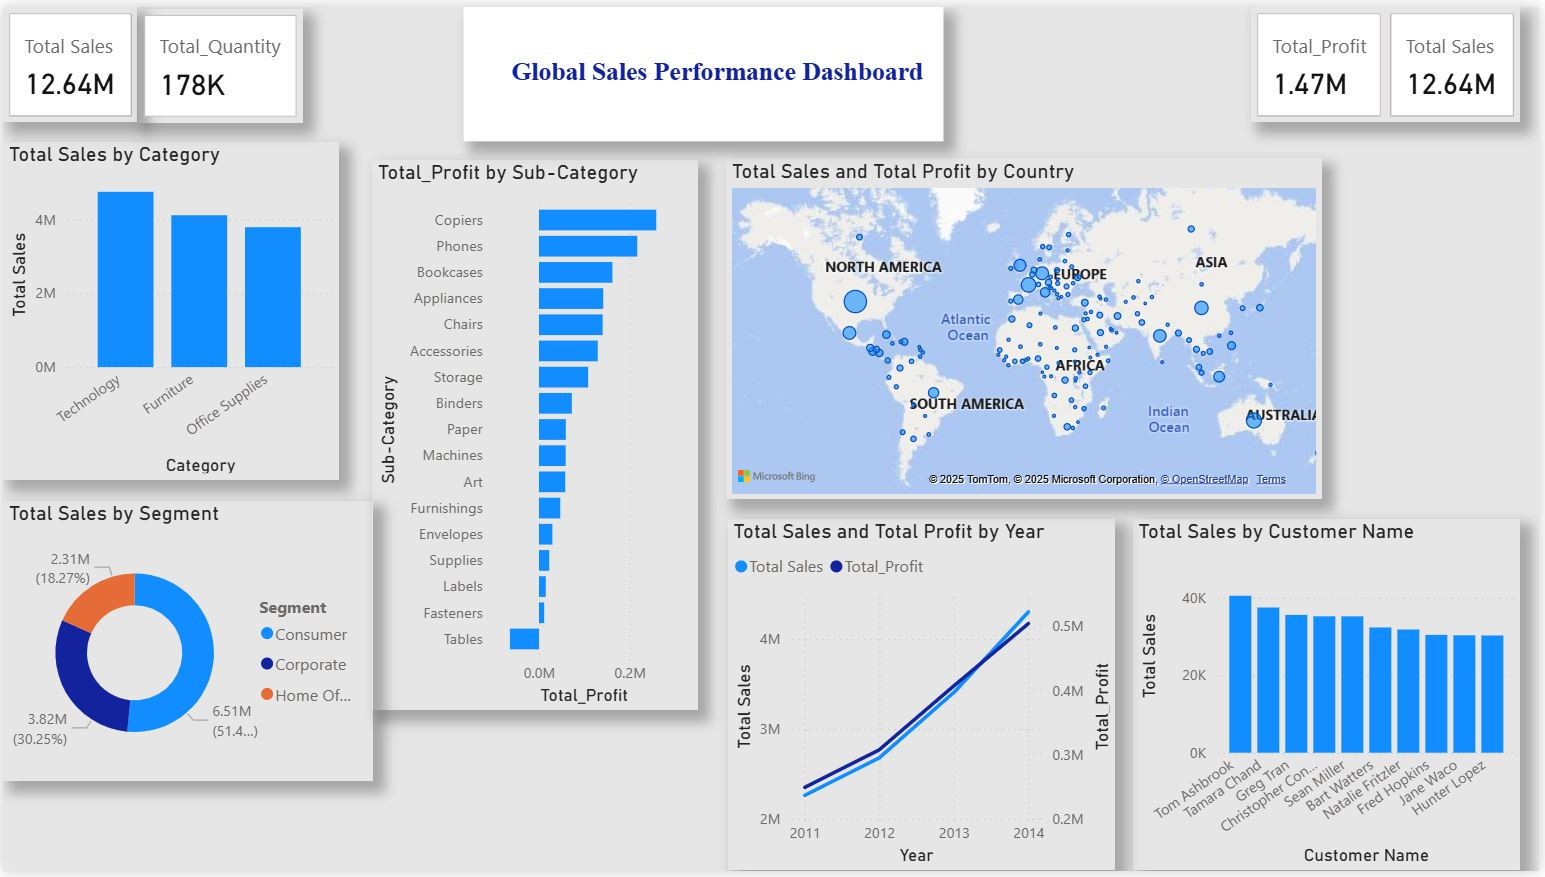

This screenshot's page, from the dashboard's own definition file:
{"tool":"powerbi","page":{"name":"Page 1","canvas":[1280,720],"ordinal":0},"visuals":[{"type":"cardVisual","fields":{"Data":["Global-Superstore.Total Sales"]},"box":[0,0,112,96],"z":0},{"type":"cardVisual","fields":{"Data":["Global-Superstore.Total_Profit","Global-Superstore.Total Sales"]},"box":[1040,0,224,96],"z":1000},{"type":"cardVisual","fields":{"Data":["Global-Superstore.Total_Quantity"]},"box":[112,1.3,137.5,95.5],"z":2000},{"type":"clusteredColumnChart","fields":{"Category":["Global-Superstore.Category"],"Y":["Global-Superstore.Total Sales"]},"box":[0,112.5,280,281.2],"z":4000},{"type":"clusteredBarChart","fields":{"Category":["Global-Superstore.Sub-Category"],"Y":["Global-Superstore.Total_Profit"]},"box":[308.1,127.3,271.2,458.4],"z":5000},{"type":"map","title":"Total Sales and Total Profit by Country","fields":{"Category":["Global-Superstore.Country"],"Size":["Global-Superstore.Total Sales"]},"box":[602.9,126.7,496.6,284.2],"z":6000},{"type":"donutChart","fields":{"Category":["Global-Superstore.Segment"],"Y":["Global-Superstore.Total Sales"]},"box":[0,411.2,308.8,233.8],"z":7000},{"type":"lineChart","title":"Total Sales and Total Profit by Year","fields":{"Category":["Global-Superstore.Order Date.Variation.Date Hierarchy.Year","Global-Superstore.Order Date.Variation.Date Hierarchy.Quarter","Global-Superstore.Order Date.Variation.Date Hierarchy.Month","Global-Superstore.Order Date.Variation.Date Hierarchy.Day"],"Y":["Global-Superstore.Total Sales"],"Y2":["Global-Superstore.Total_Profit"]},"box":[603.5,426.5,323.4,292.8],"z":8000},{"type":"clusteredColumnChart","fields":{"Category":["Global-Superstore.Customer Name"],"Y":["Global-Superstore.Total Sales"]},"box":[940.9,426.5,323.4,292.8],"z":9000},{"type":"textbox","box":[384,0,400,112],"z":10000}]}

Visuals, with their boxes in screenshot pixels (x1, y1, x2, y2), scaled from the page's 1280x720 canvas onto the 1545x877 screenshot:
cardVisual - Global-Superstore.Total Sales: {"left": 0, "top": 0, "right": 135, "bottom": 117}
cardVisual - Global-Superstore.Total_Profit x Global-Superstore.Total Sales: {"left": 1255, "top": 0, "right": 1526, "bottom": 117}
cardVisual - Global-Superstore.Total_Quantity: {"left": 135, "top": 2, "right": 301, "bottom": 118}
clusteredColumnChart - Global-Superstore.Category x Global-Superstore.Total Sales: {"left": 0, "top": 137, "right": 338, "bottom": 480}
clusteredBarChart - Global-Superstore.Sub-Category x Global-Superstore.Total_Profit: {"left": 372, "top": 155, "right": 699, "bottom": 713}
"Total Sales and Total Profit by Country" map: {"left": 728, "top": 154, "right": 1327, "bottom": 500}
donutChart - Global-Superstore.Segment x Global-Superstore.Total Sales: {"left": 0, "top": 501, "right": 373, "bottom": 786}
"Total Sales and Total Profit by Year" lineChart: {"left": 728, "top": 520, "right": 1119, "bottom": 876}
clusteredColumnChart - Global-Superstore.Customer Name x Global-Superstore.Total Sales: {"left": 1136, "top": 520, "right": 1526, "bottom": 876}
textbox: {"left": 464, "top": 0, "right": 946, "bottom": 136}
